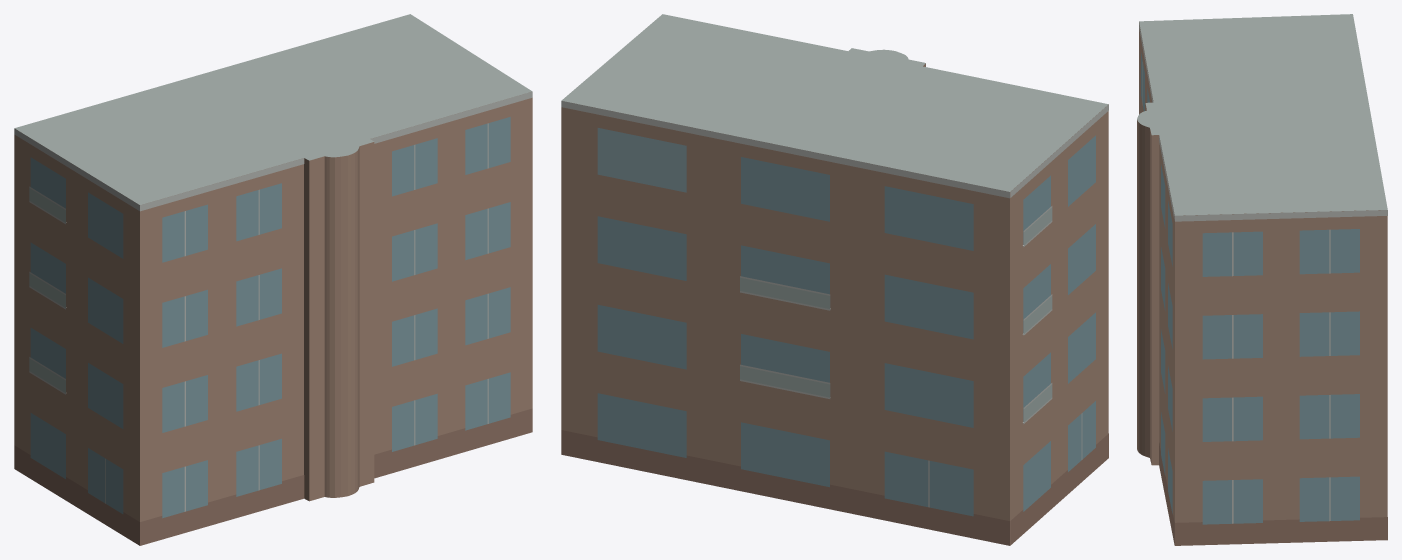
Rendered from survey-upis-32755792.glb.
3 views of the same model, side by side, from view 1: azimuth 30°, elevation 25°; view 2: azimuth 150°, elevation 25°; view 3: azimuth 270°, elevation 25° (orthographic). The views are drawn at different scales.
Parts seen in each view (by area): view 1: survey-upis-32755792.tmp; view 2: survey-upis-32755792.tmp; view 3: survey-upis-32755792.tmp.
Part boxes in pixels (left/top/right/bottom): survey-upis-32755792.tmp: left=14, top=14, right=532, bottom=545; survey-upis-32755792.tmp: left=561, top=14, right=1108, bottom=545; survey-upis-32755792.tmp: left=1137, top=14, right=1387, bottom=545.
Size of the model in its own units: 17.63 by 13.45 by 9.27.
